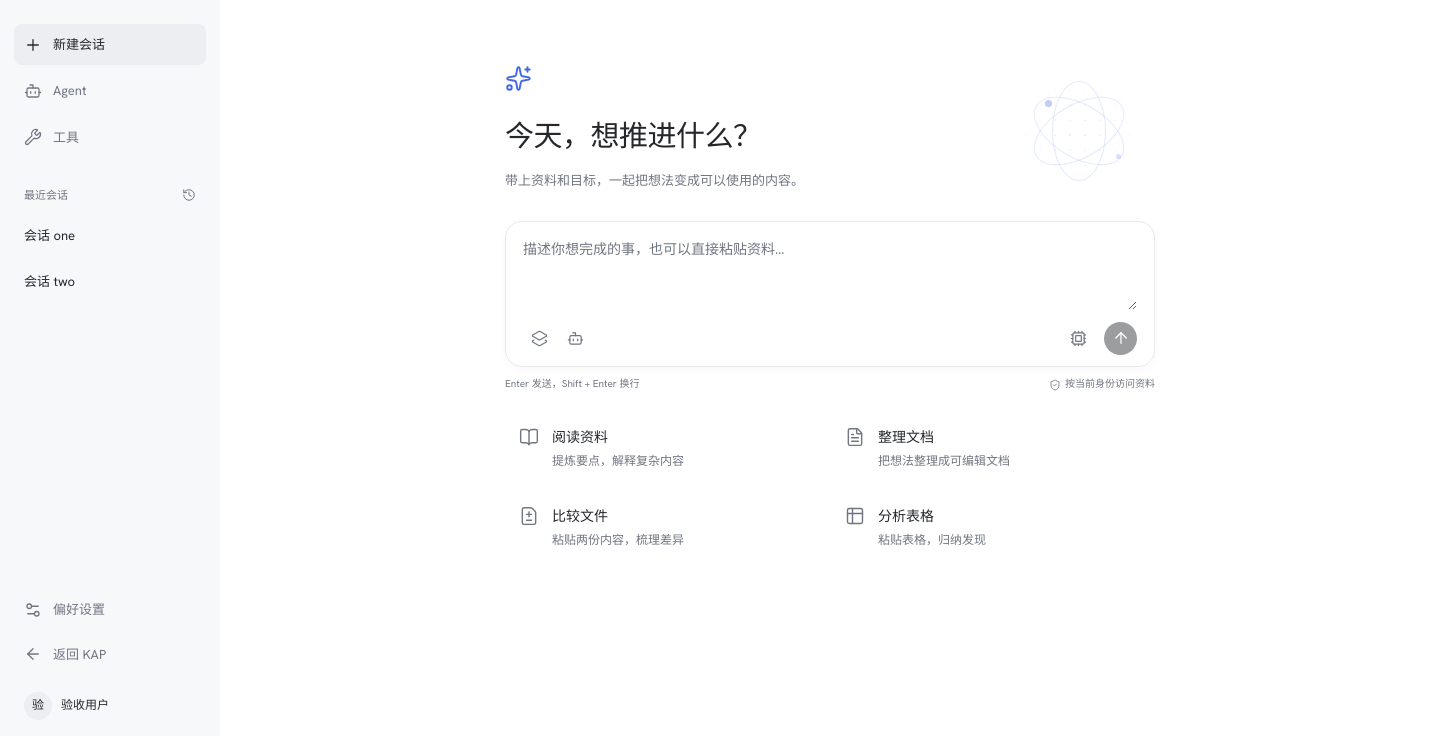
it: AI workspace lifecycle › does not show an earlier recipient's send error in the new Agent draft
The image size is (1440, 736).
In the text box named "消息": (830, 274) [523,237,1137,310], type "原来的任务"
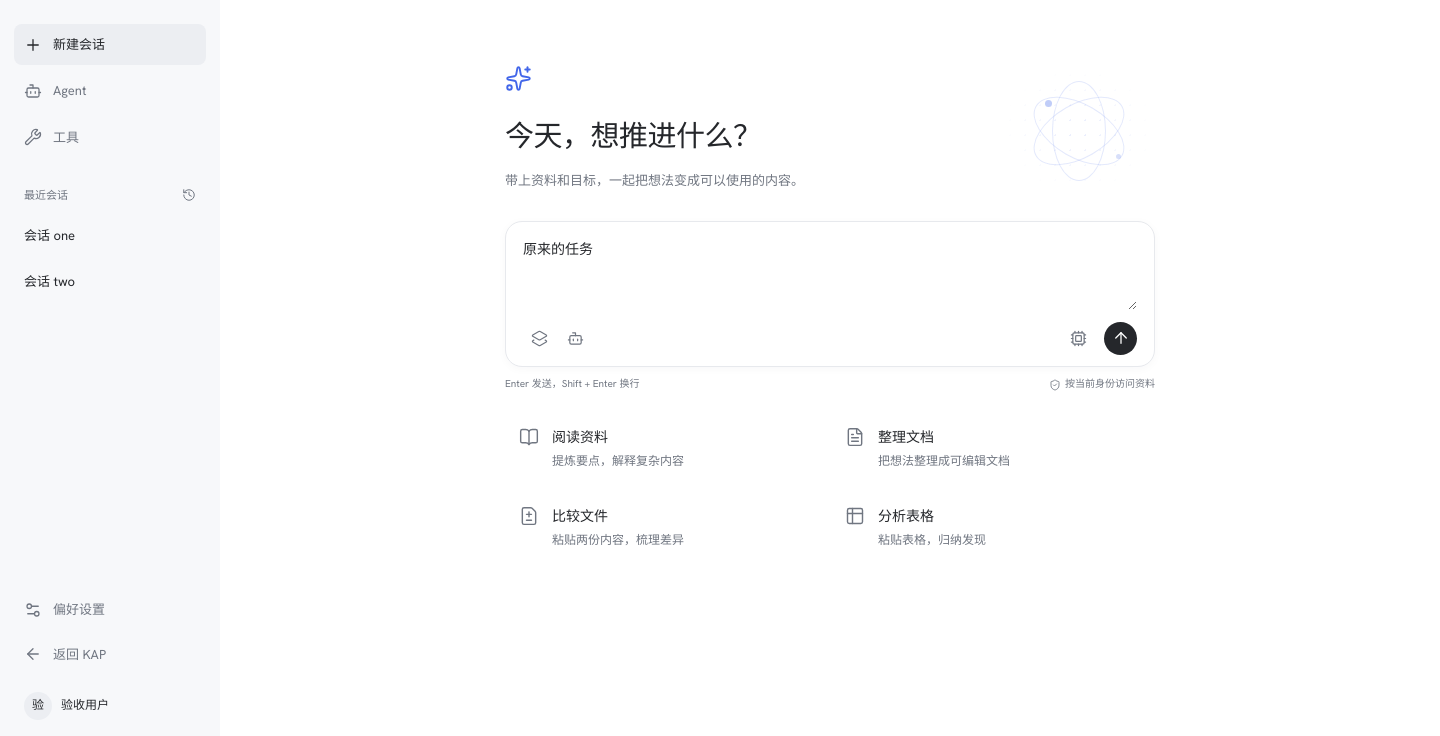
Click the button named "发送消息": (1120, 338) [1104,322,1137,355]
Wait 1 ms
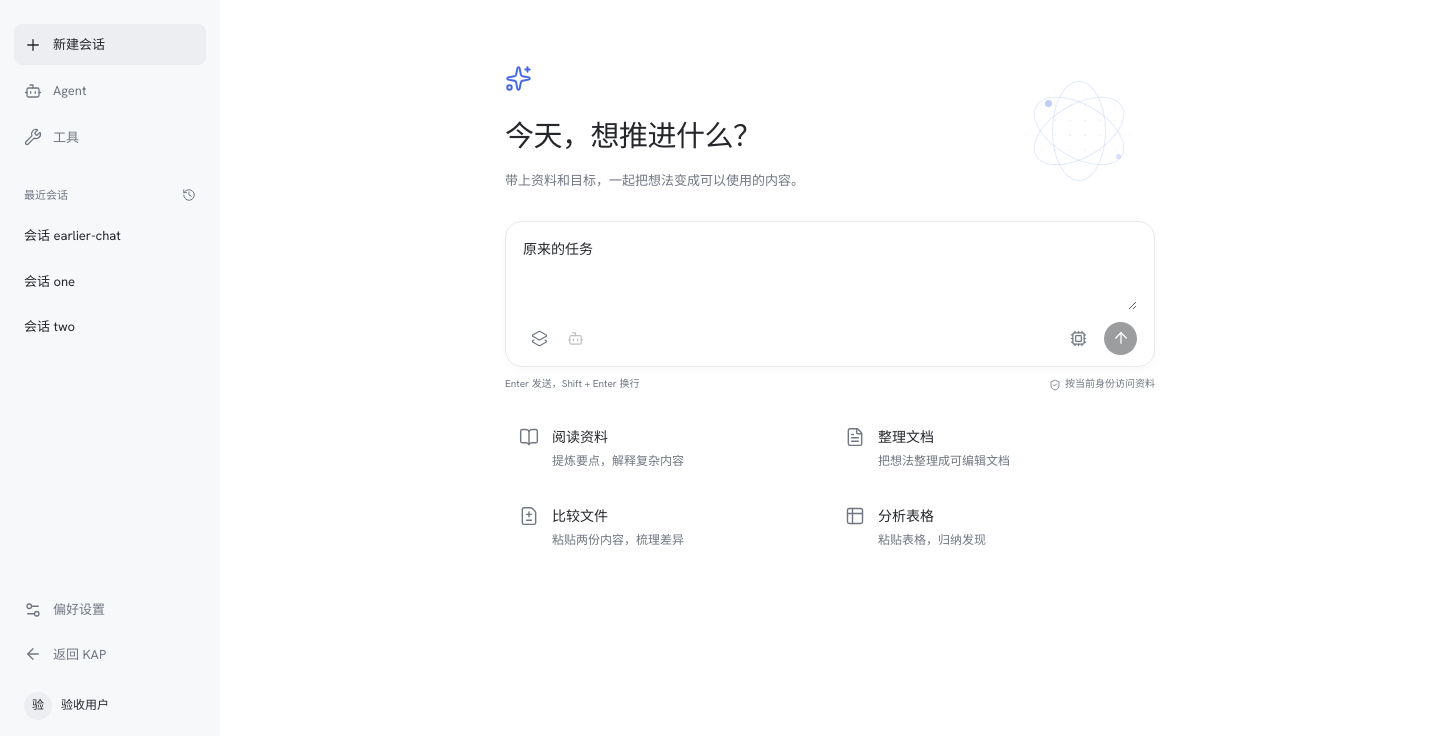
Click the button "Agent": (110, 91) [14,70,206,112]
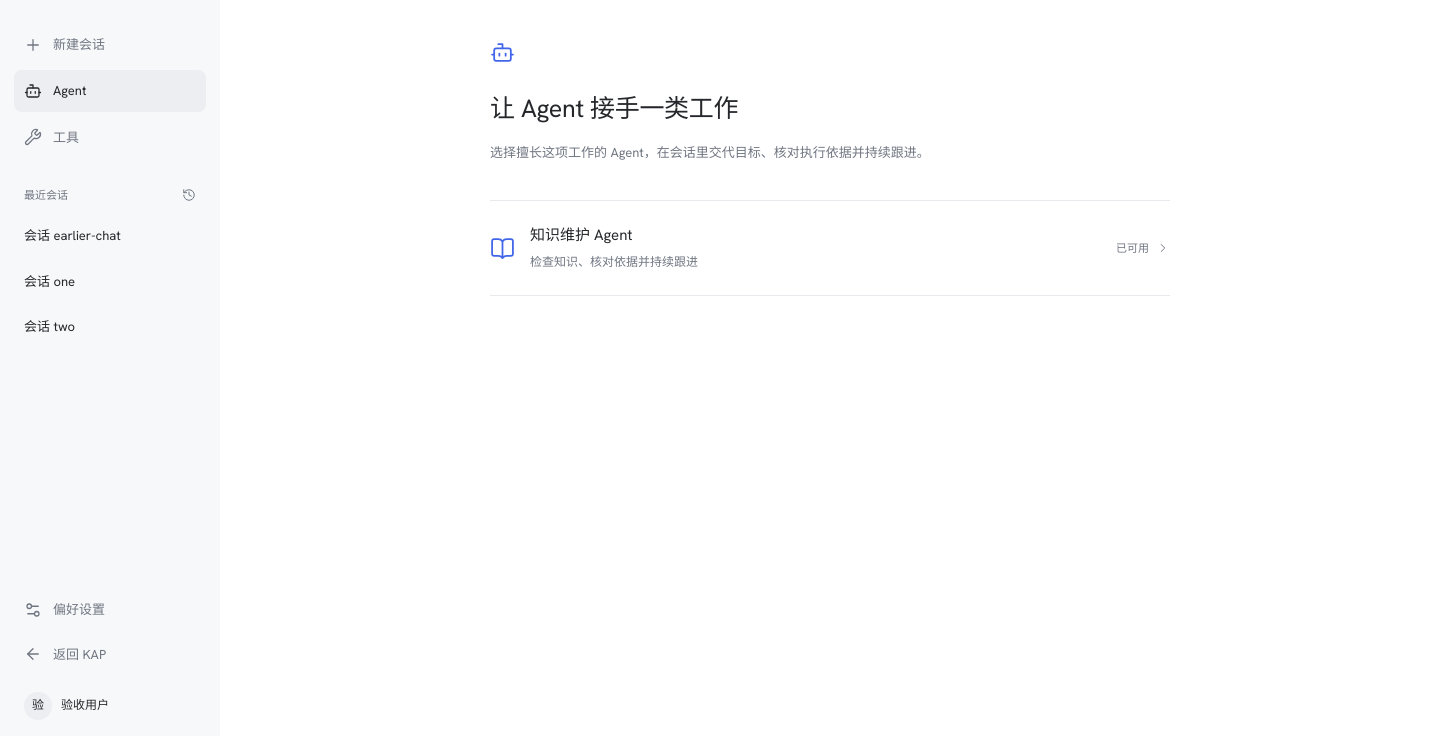
Click the text "知识维护 Agent": (581, 235) [530,225,632,245]
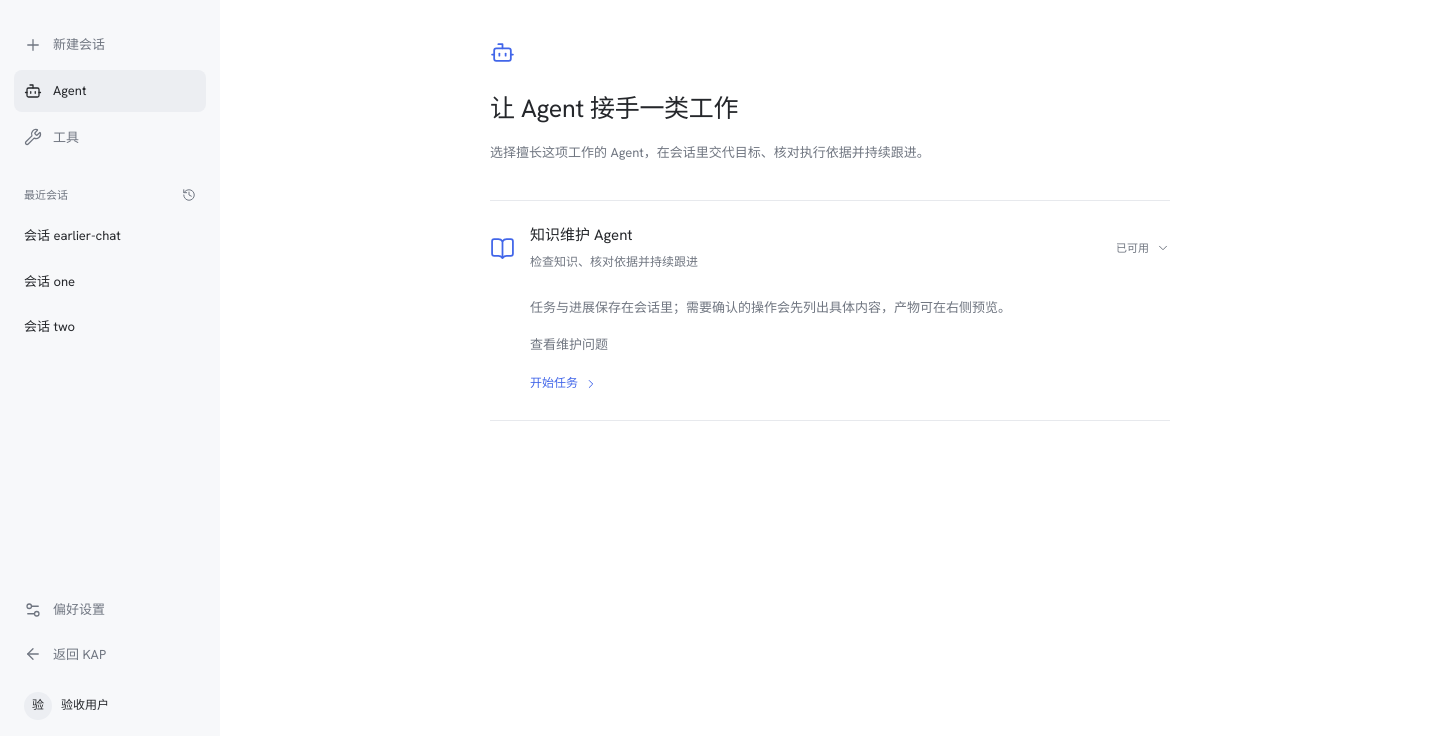
Click the link "开始任务": (564, 383) [530,375,598,391]
Wait 1 ms
(page scrolled)
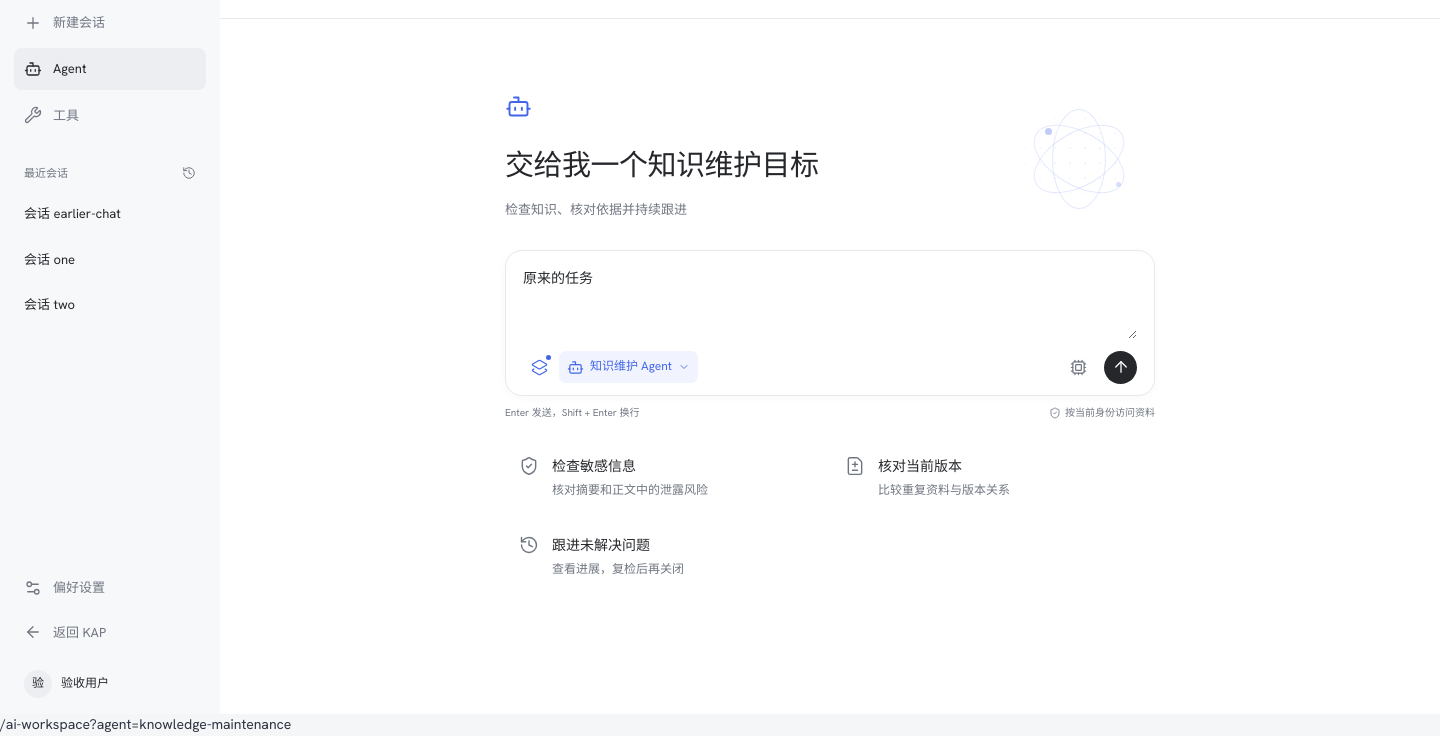
Expected: the text box named "消息" holds "原来的任务", [523,266,1137,339]
Expected: the text with test id "current-path" shows "agent=knowledge-maintenance", [89,715,291,733]
